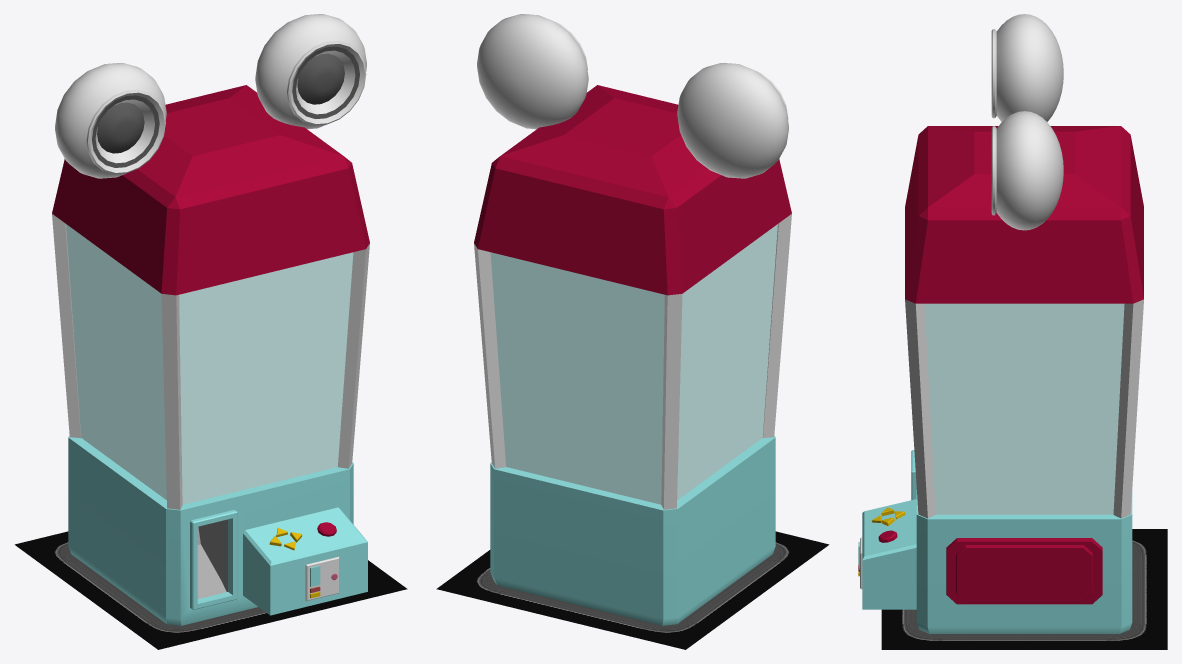
Rendered from machine.fbx.
3 views of the same model, side by side, from view 1: azimuth 30°, elevation 25°; view 2: azimuth 150°, elevation 25°; view 3: azimuth 270°, elevation 25° (orthographic).
Parts seen in each view (by area): view 1: machine_glass, machine_top, machine_bottom, pSphere2, pSphere1, polySurface4, pPlane1, machine_tunnel, pCube15; view 2: machine_glass, machine_top, machine_bottom, pSphere2, pSphere1, pPlane1; view 3: machine_top, machine_glass, machine_bottom, pCube13, pPlane1, pSphere1, pSphere2, polySurface4.
Part boxes in pixels (bbox=[...]): machine_glass: bbox=[66, 224, 353, 504]; machine_top: bbox=[52, 85, 369, 509]; machine_bottom: bbox=[68, 435, 353, 625]; pSphere2: bbox=[55, 63, 166, 178]; pSphere1: bbox=[255, 14, 366, 129]; polySurface4: bbox=[243, 507, 367, 615]; pPlane1: bbox=[14, 531, 407, 649]; machine_tunnel: bbox=[197, 519, 227, 598]; pCube15: bbox=[305, 556, 339, 601]; machine_glass: bbox=[490, 224, 777, 504]; machine_top: bbox=[474, 85, 791, 509]; machine_bottom: bbox=[490, 435, 775, 625]; pSphere2: bbox=[677, 63, 788, 178]; pSphere1: bbox=[477, 14, 588, 129]; pPlane1: bbox=[436, 531, 829, 649]; machine_top: bbox=[905, 126, 1143, 518]; machine_glass: bbox=[924, 303, 1124, 514]; machine_bottom: bbox=[911, 450, 1132, 633]; pCube13: bbox=[946, 538, 1102, 604]; pPlane1: bbox=[881, 529, 1167, 649]; pSphere1: bbox=[991, 111, 1063, 230]; pSphere2: bbox=[991, 14, 1063, 121]; polySurface4: bbox=[862, 499, 916, 609].
Size of the model in its own units: 104 by 170 by 91.51.
